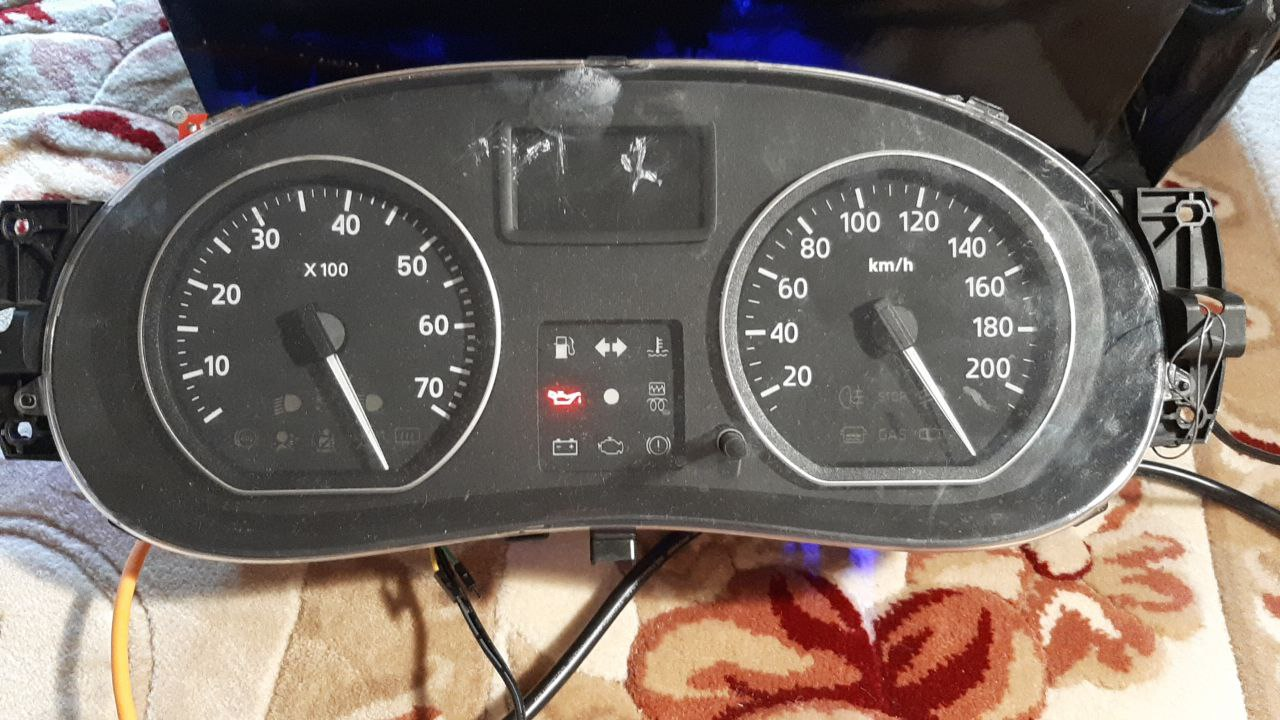oil: (542, 384, 590, 411)
